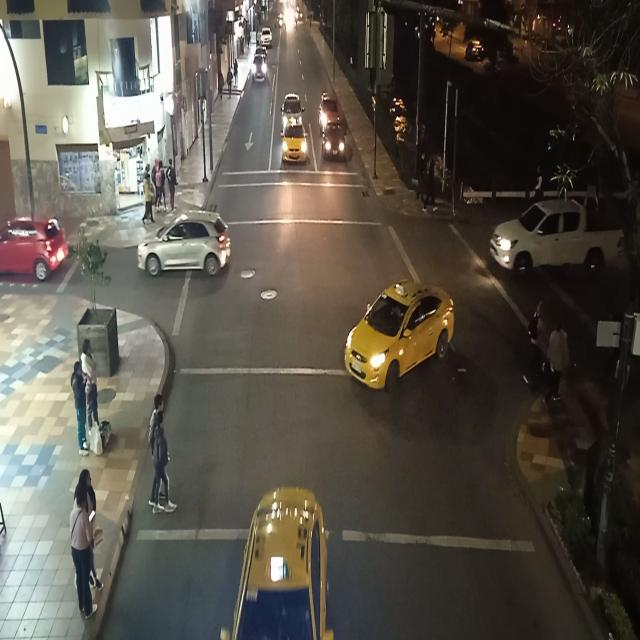CMT: (493, 199, 624, 270)
SED: (226, 492, 326, 640), (345, 286, 449, 386), (0, 218, 66, 278), (283, 126, 305, 162)
SUV: (138, 212, 228, 270)
